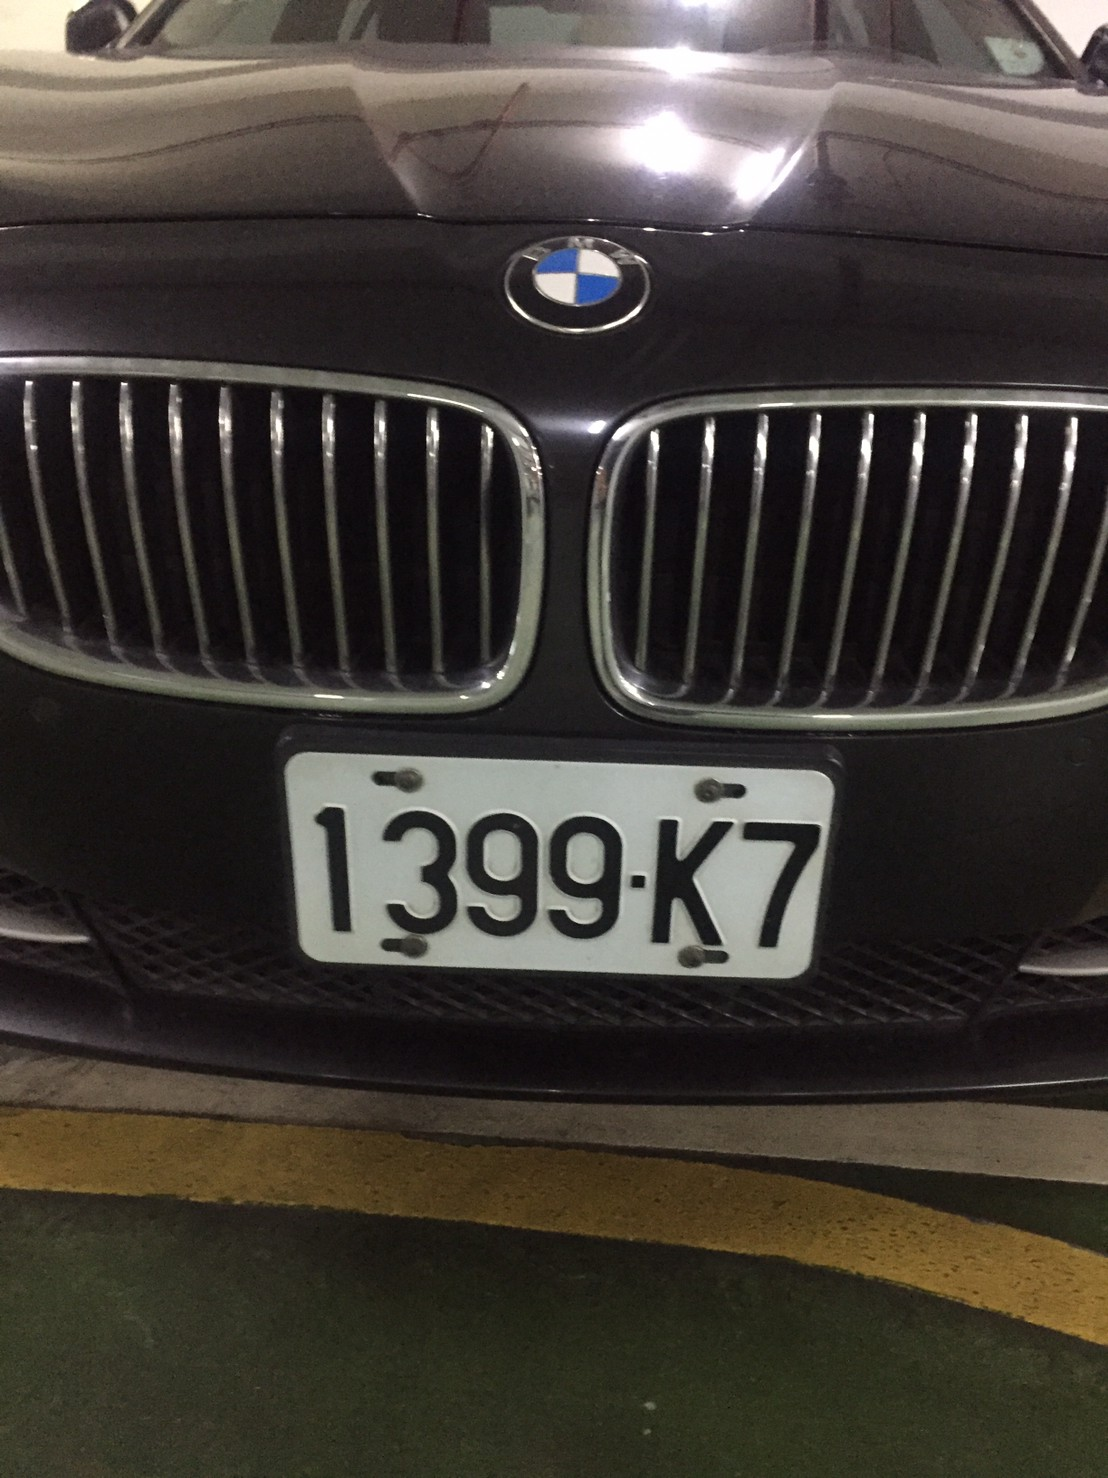LP: (279, 740, 841, 992)
